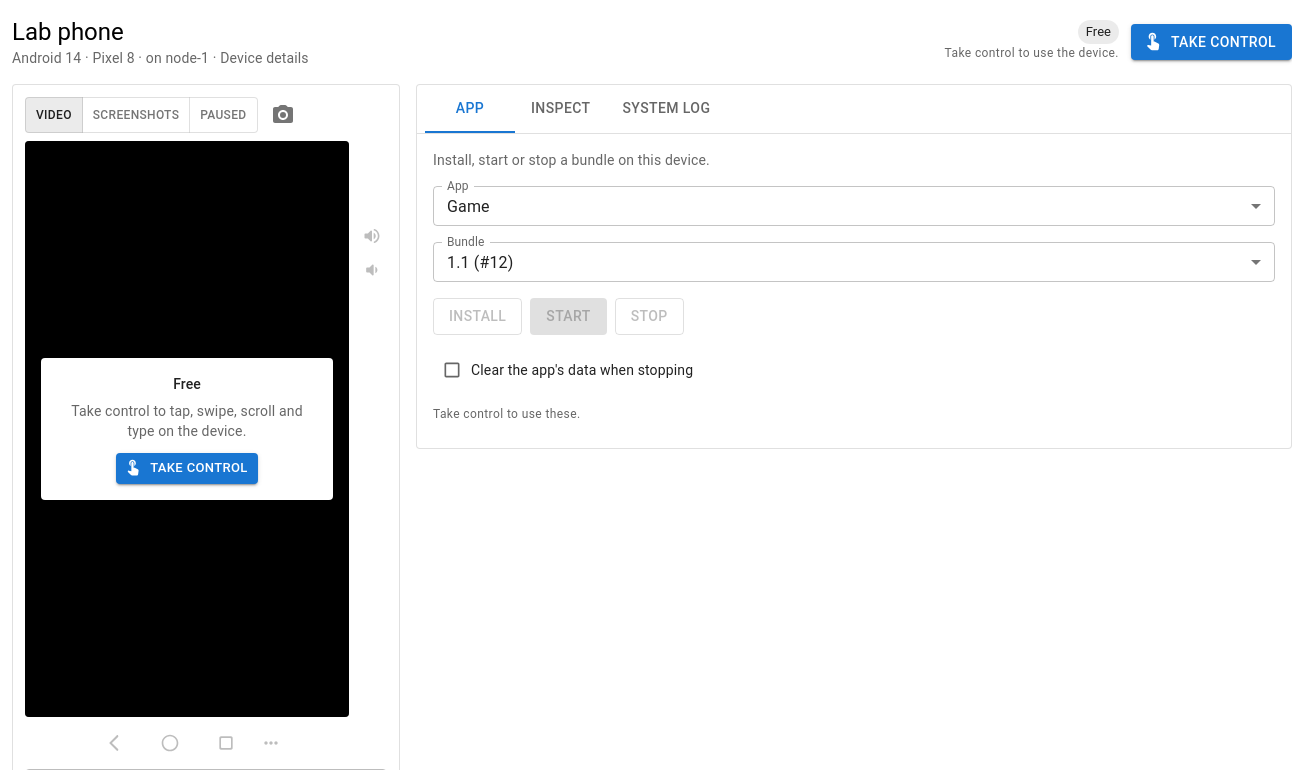
it: the control page: the system log › loads the log on demand, newest last
The width and height of the screenshot is (1304, 770).
Expected: the heading "Lab phone" is shown, [12,18,124,46]
Step 1. Click the tab "System log" → (666, 109), box [606,85,726,133]
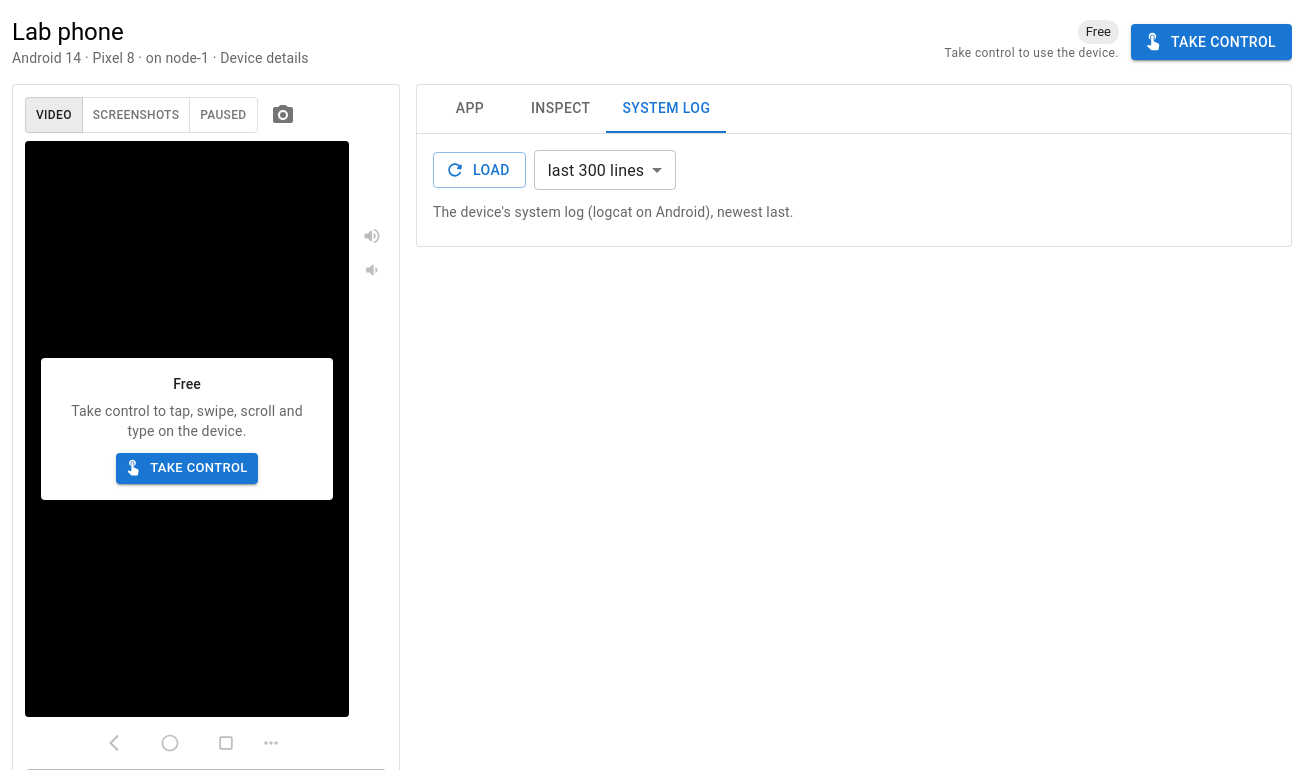
Result: the text "The device's system log (logcat on Android), newest last." is shown at [433,204,794,220]
Step 2. Click the button "Load" → (479, 170), box [433,152,526,188]
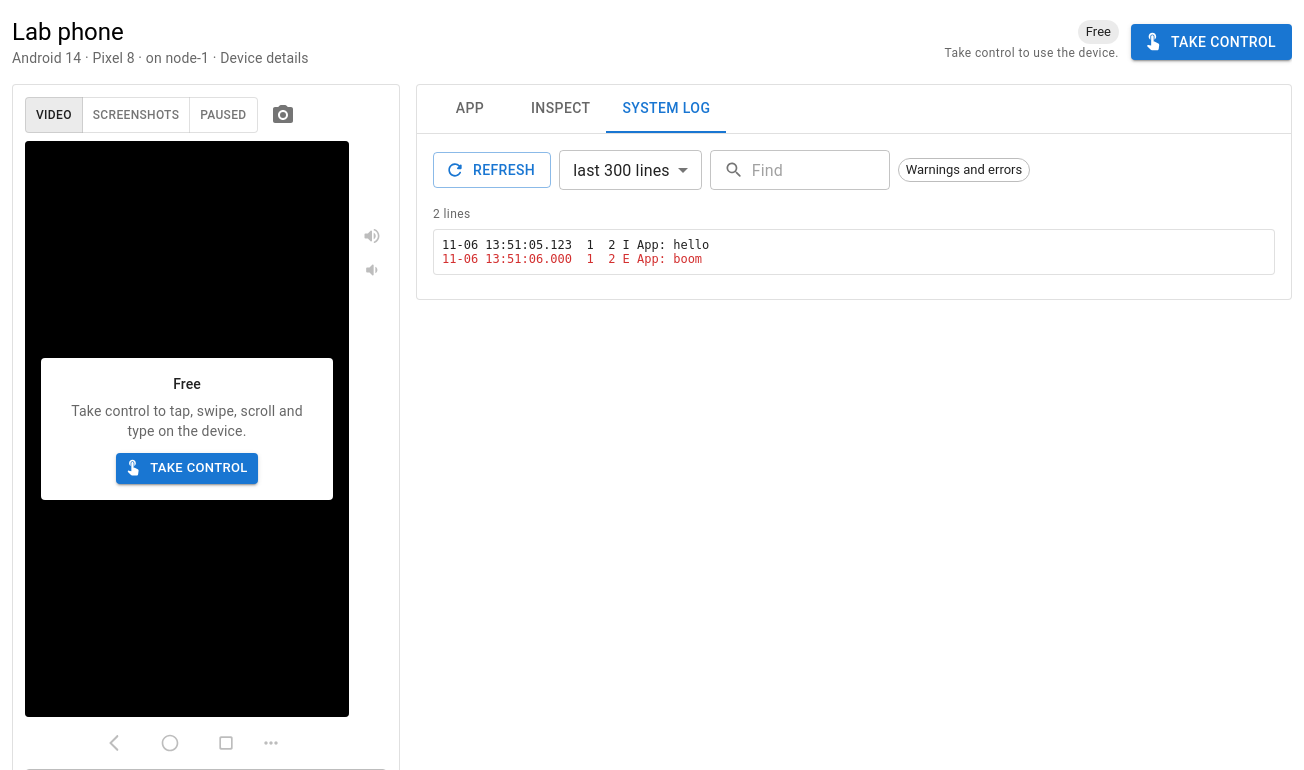
Result: the text "2 lines" is shown at [433,207,470,221]
Result: the text "11-06 13:51:05.123 1 2 I App: hello" is shown 2 times at [442,238,709,252]; [442,252,702,266]
Result: the button "Refresh" is shown at [433,152,551,188]
